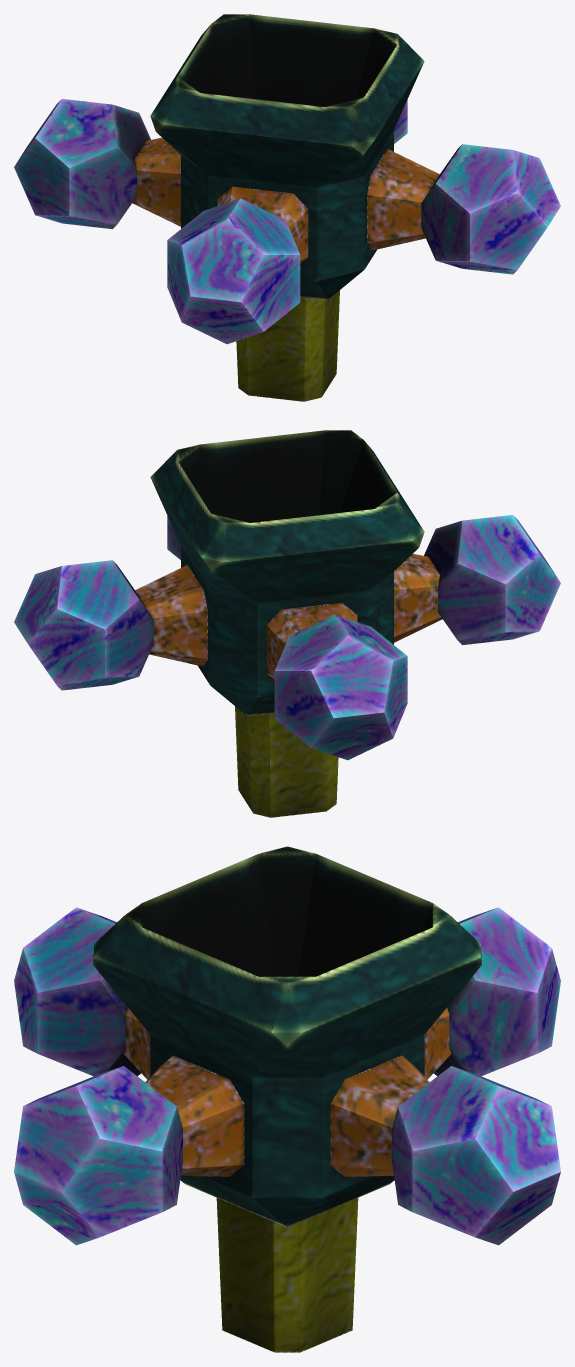
Rendered from EctoLOD3Mid.fbx.
3 renders of one model, top to bottom at view 1: azimuth 30°, elevation 25°; view 2: azimuth 150°, elevation 25°; view 3: azimuth 270°, elevation 25°, orthographic. The views are drawn at different scales.
Parts seen in each view (by area): view 1: polySurface1905; view 2: polySurface1905; view 3: polySurface1905.
Boxes of the visible parts, bbox=[...] form: polySurface1905: bbox=[14, 14, 560, 401]; polySurface1905: bbox=[14, 430, 560, 817]; polySurface1905: bbox=[14, 846, 560, 1352].
Bounding box in the file's own units: 2.99 × 2.47 × 2.99.
1 material, 1 textured.
